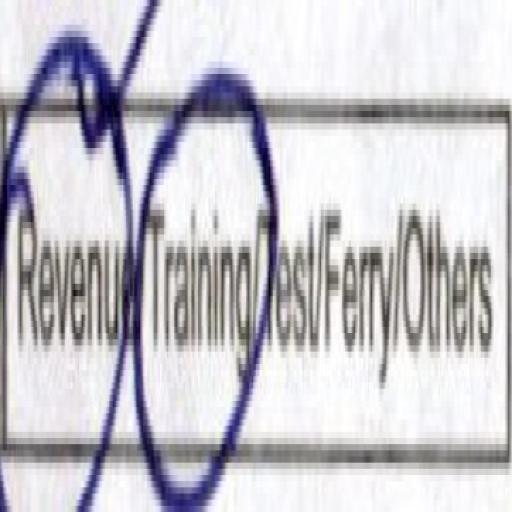check: (0, 0, 137, 512), (141, 0, 258, 512)
